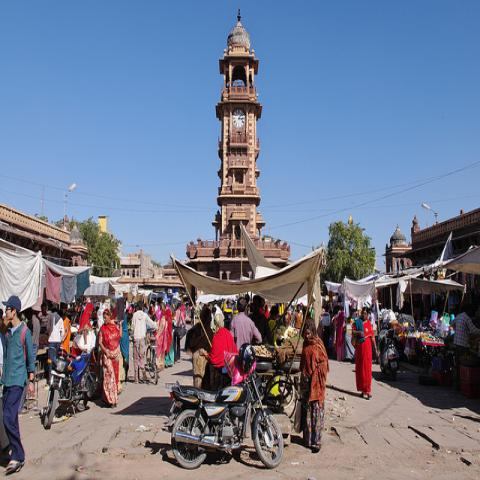motorcycle: (164, 365, 284, 470), (41, 346, 101, 431), (378, 329, 400, 382)
